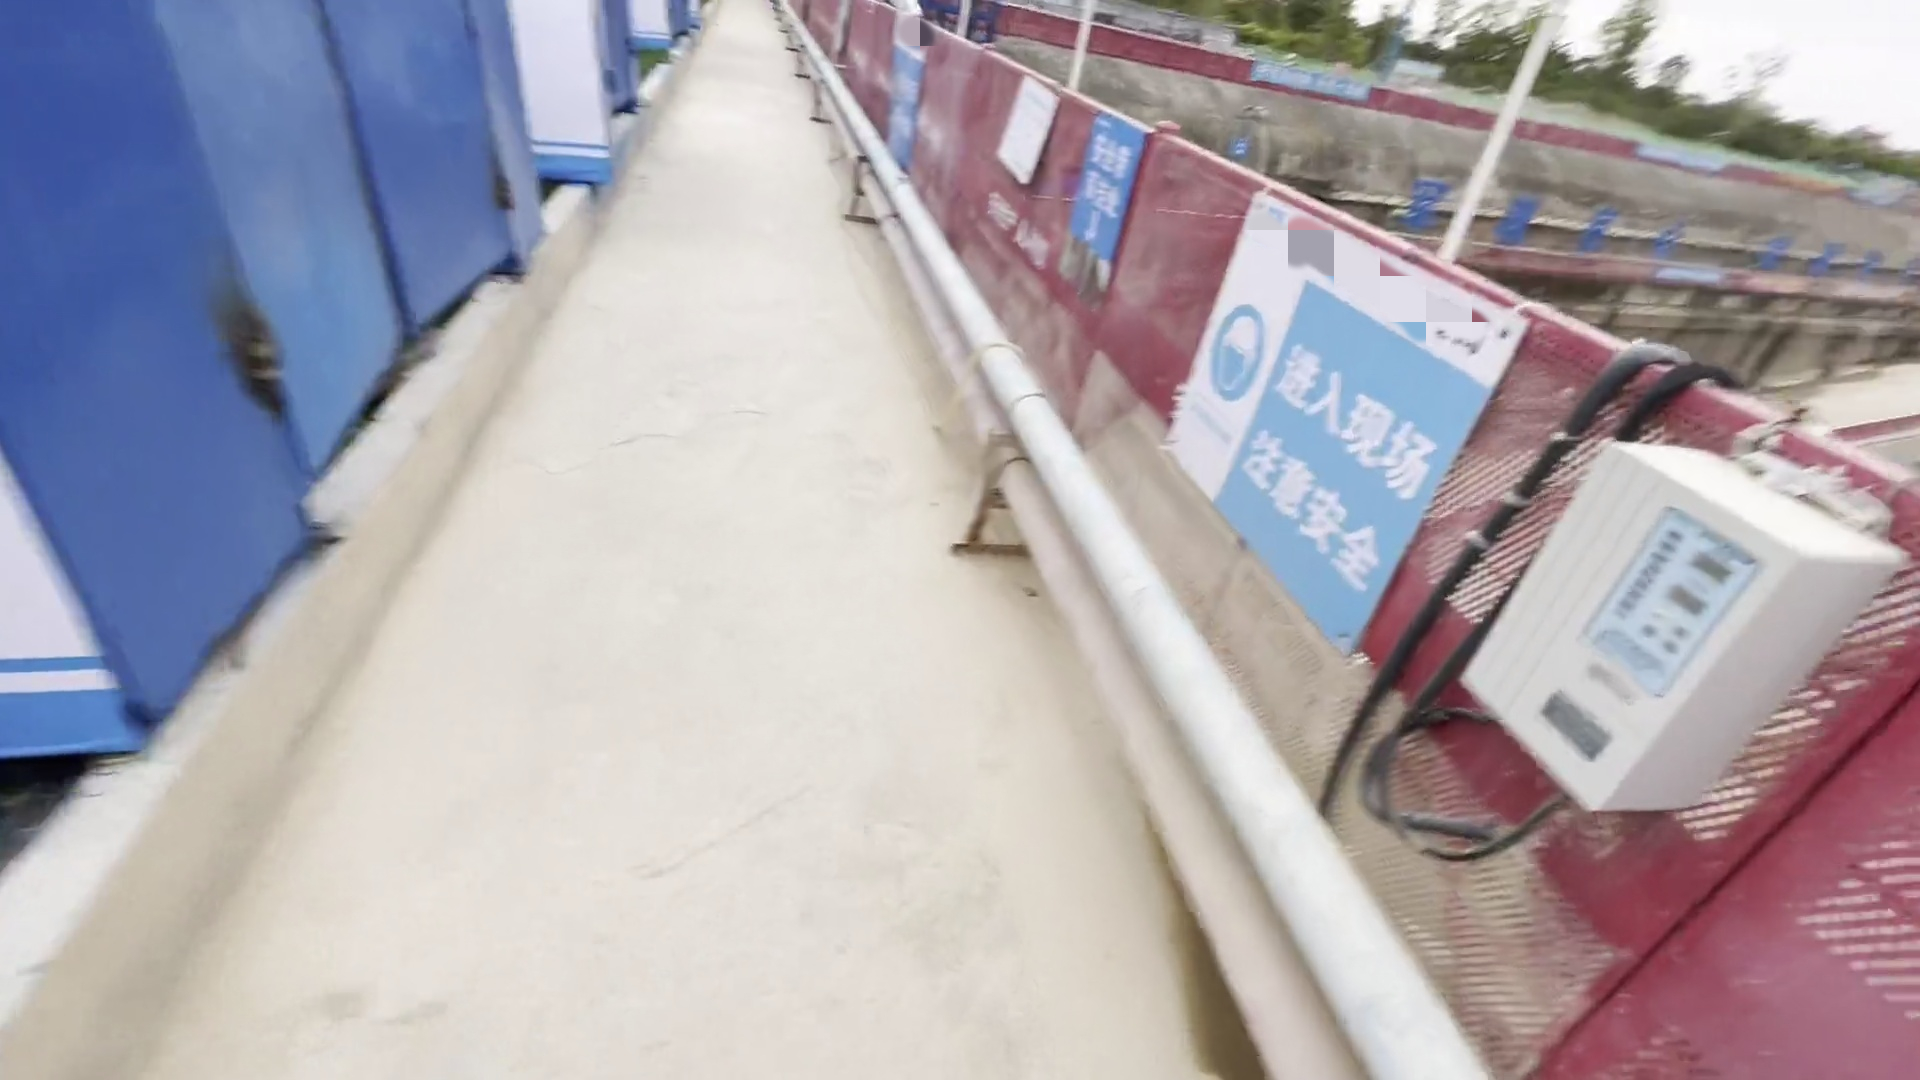fence: (849, 26, 1912, 1065)
slogan: (1176, 204, 1513, 637)
